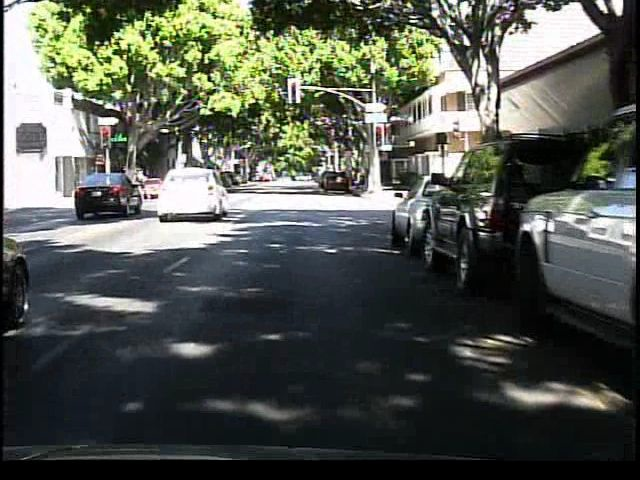person: (134, 161, 155, 196)
